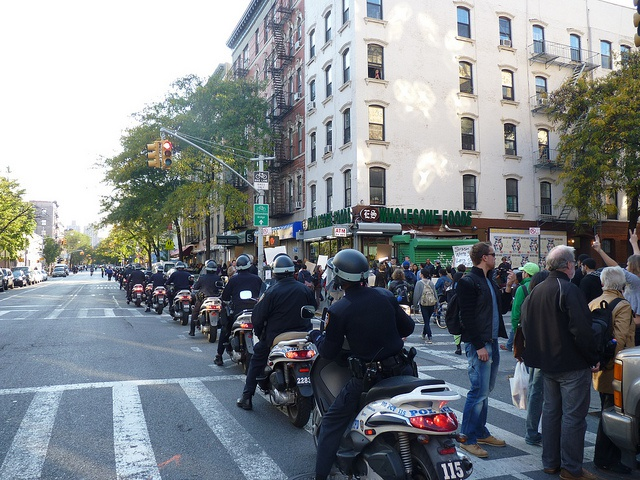non-vehicle: (311, 341, 473, 473), (239, 289, 322, 429), (216, 279, 256, 375), (188, 275, 227, 342), (165, 283, 196, 324), (142, 277, 168, 315), (131, 283, 145, 306), (121, 276, 128, 290), (117, 273, 121, 282), (114, 271, 118, 280), (111, 269, 115, 277)
